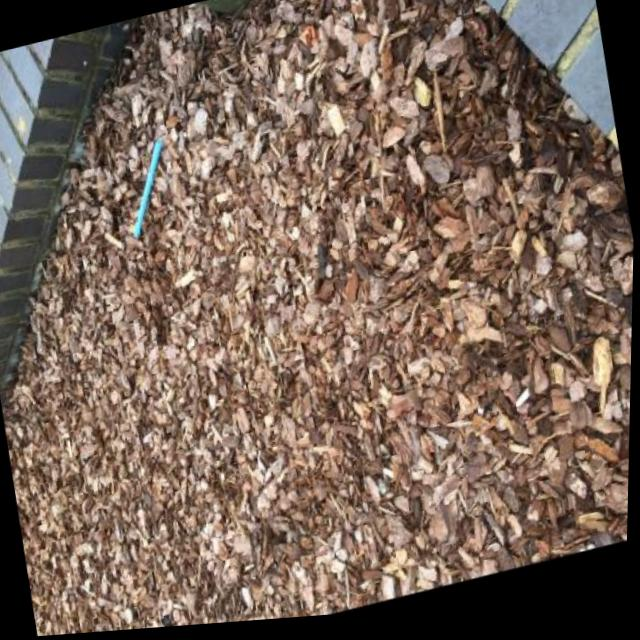plastic: (117, 138, 179, 244)
